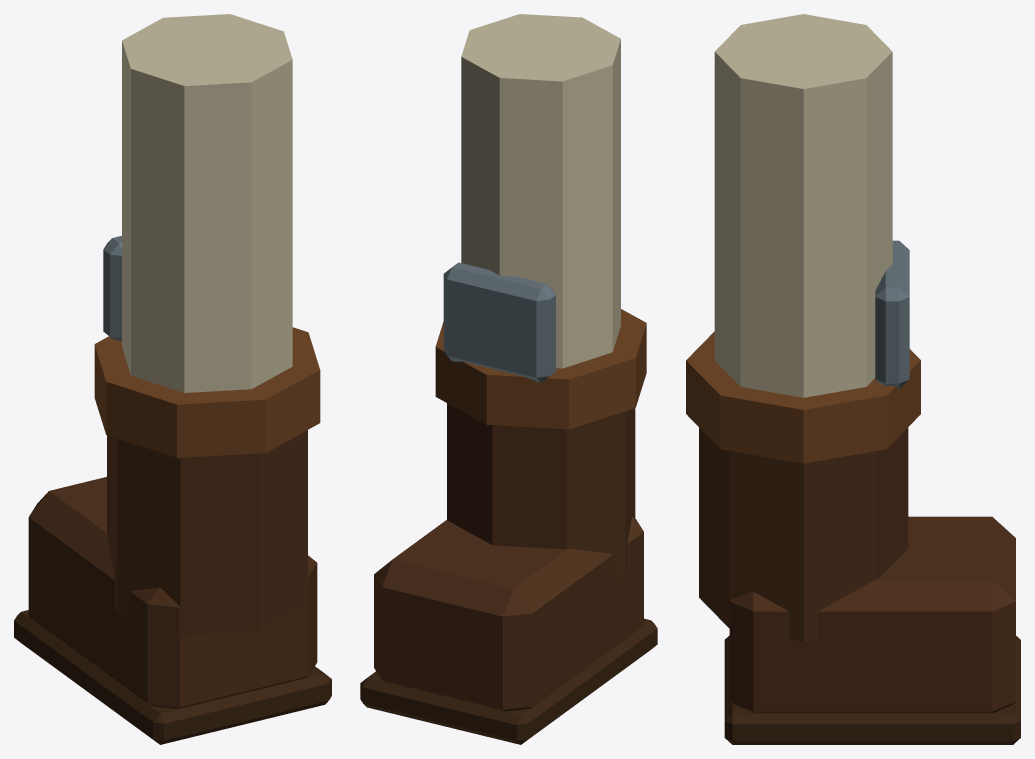
File: LegRight.glb
3 views of the same model, side by side, from view 1: azimuth 30°, elevation 25°; view 2: azimuth 150°, elevation 25°; view 3: azimuth 270°, elevation 25° (orthographic). The views are drawn at different scales.
Visible parts, largest first — view 1: Sculpture; view 2: Sculpture; view 3: Sculpture.
Boxes of the visible parts, bbox=[...] form: Sculpture: bbox=[14, 14, 331, 744]; Sculpture: bbox=[360, 14, 657, 744]; Sculpture: bbox=[686, 14, 1020, 744].
Size of the model in its own units: 0.238 by 0.7295 by 0.339.
